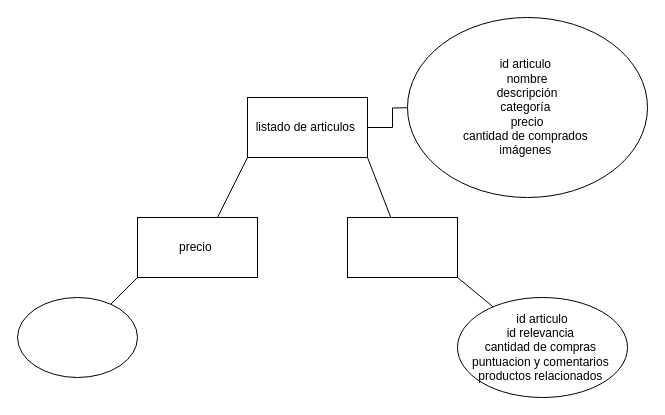
This 665x415 diagram has some shape labels left out. The shapes that lost their labels are listed below. From the top down, each one's box as (x1, y1, x2, y2) in pixels, then its label:
(346, 216, 458, 278): relevancia
(16, 296, 138, 378): id articulo id precio moneda
